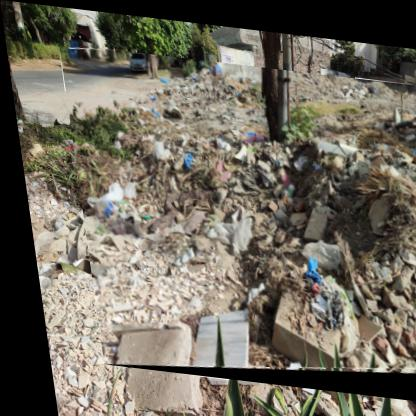Garbage: (59, 43, 416, 399)
